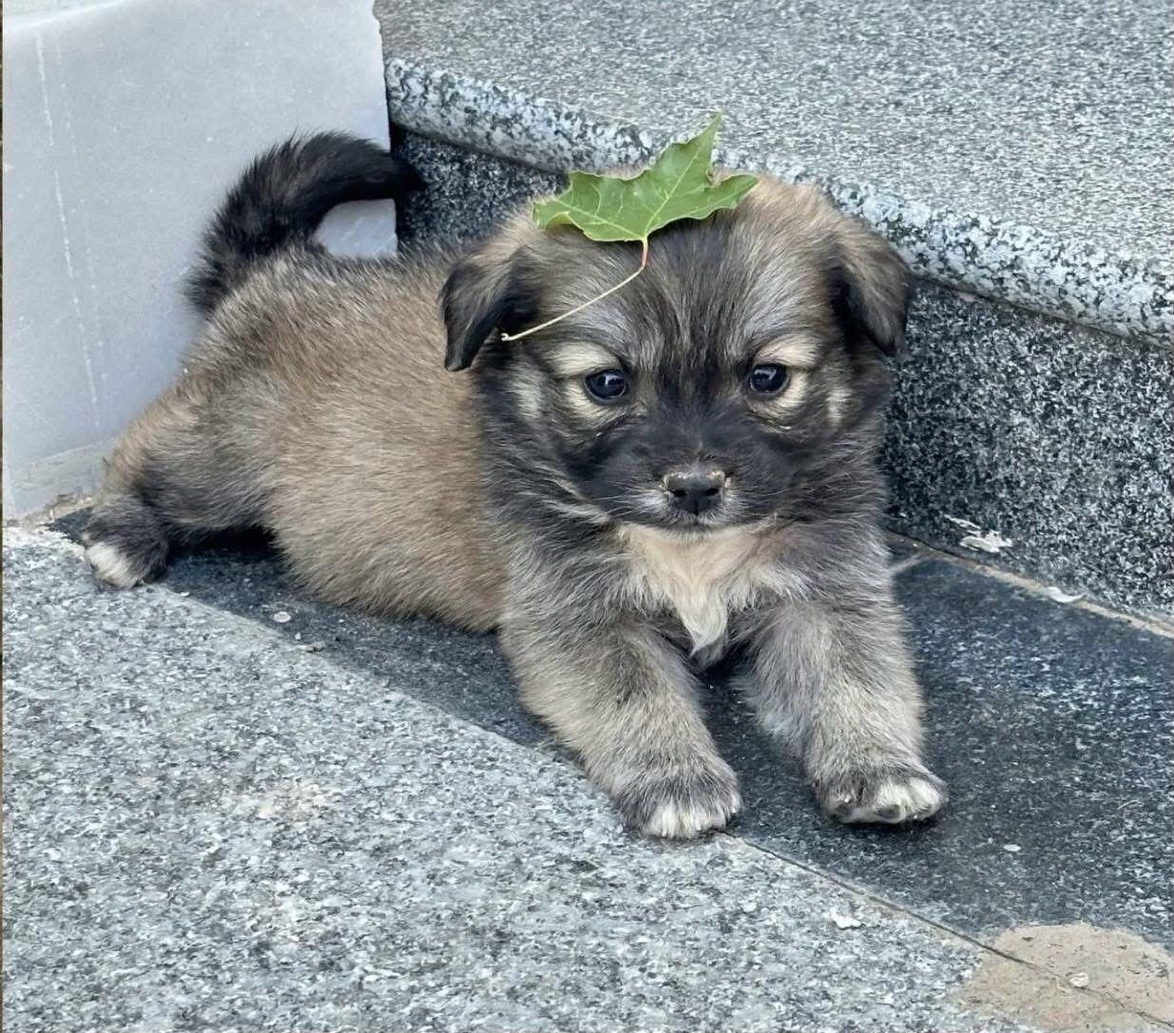puppy-dog: (73, 127, 951, 844)
